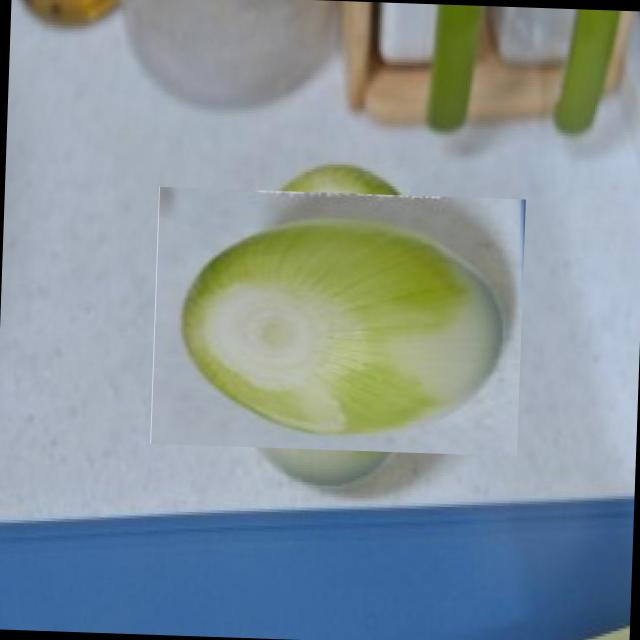Onion: (176, 160, 499, 482)
